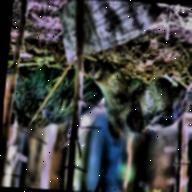boar: (86, 45, 192, 141)
